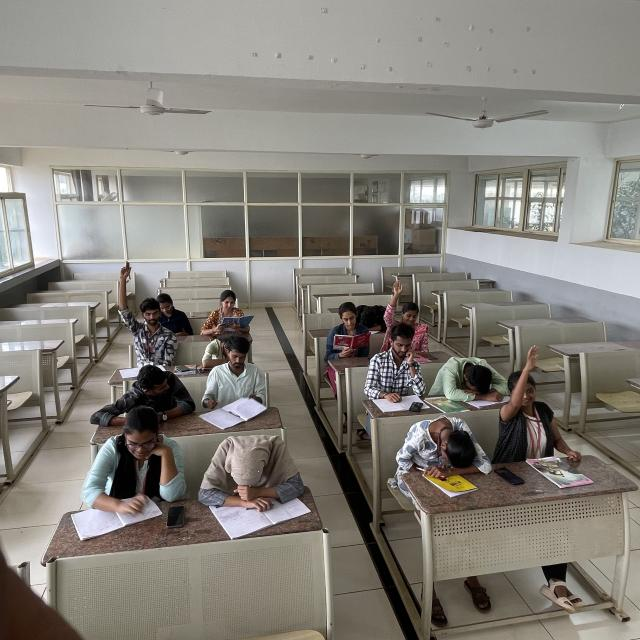Hand Rising: (496, 343, 576, 457), (112, 257, 172, 361), (382, 278, 432, 346)
Reading: (196, 338, 270, 422), (202, 290, 260, 339), (321, 298, 368, 356)
Sleeping: (200, 428, 309, 504), (392, 411, 489, 472), (434, 348, 511, 400), (355, 300, 392, 334)
Using Phone: (365, 321, 425, 392)
Writing: (76, 414, 177, 528)
